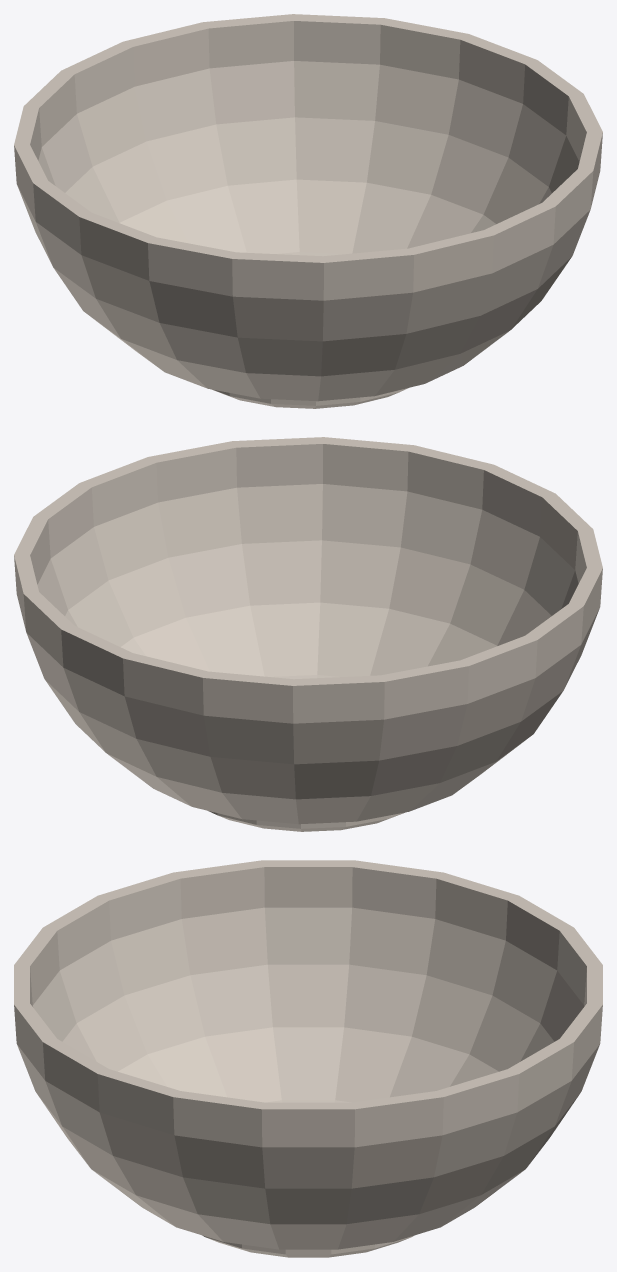
Rendered from SM_Cook_PhoBowl_Empty_01.obj.
The picture shows the model from 3 angles, top to bottom: view 1: azimuth 30°, elevation 25°; view 2: azimuth 150°, elevation 25°; view 3: azimuth 270°, elevation 25°; orthographic projection.
Visible parts, largest first — view 1: SM_Cook_PhoBowl_Empty_01; view 2: SM_Cook_PhoBowl_Empty_01; view 3: SM_Cook_PhoBowl_Empty_01.
Boxes of the visible parts, bbox=[...] form: SM_Cook_PhoBowl_Empty_01: bbox=[14, 14, 602, 408]; SM_Cook_PhoBowl_Empty_01: bbox=[14, 437, 602, 831]; SM_Cook_PhoBowl_Empty_01: bbox=[14, 860, 602, 1257].
Bounding box in the file's own units: 0.2173 × 0.0894 × 0.2173.
1 material, 1 textured.
